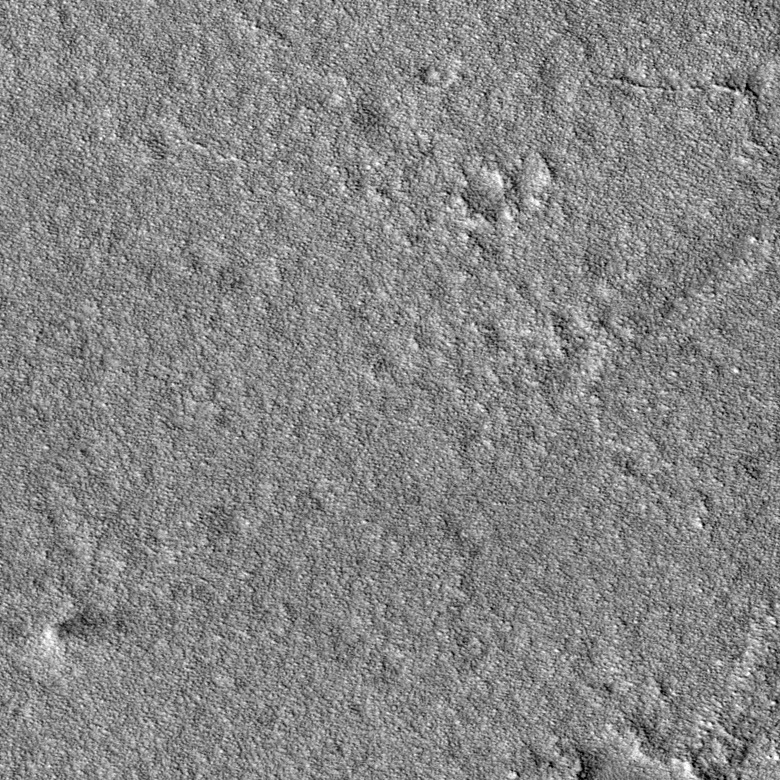dust_devil: (37, 600, 132, 657)
